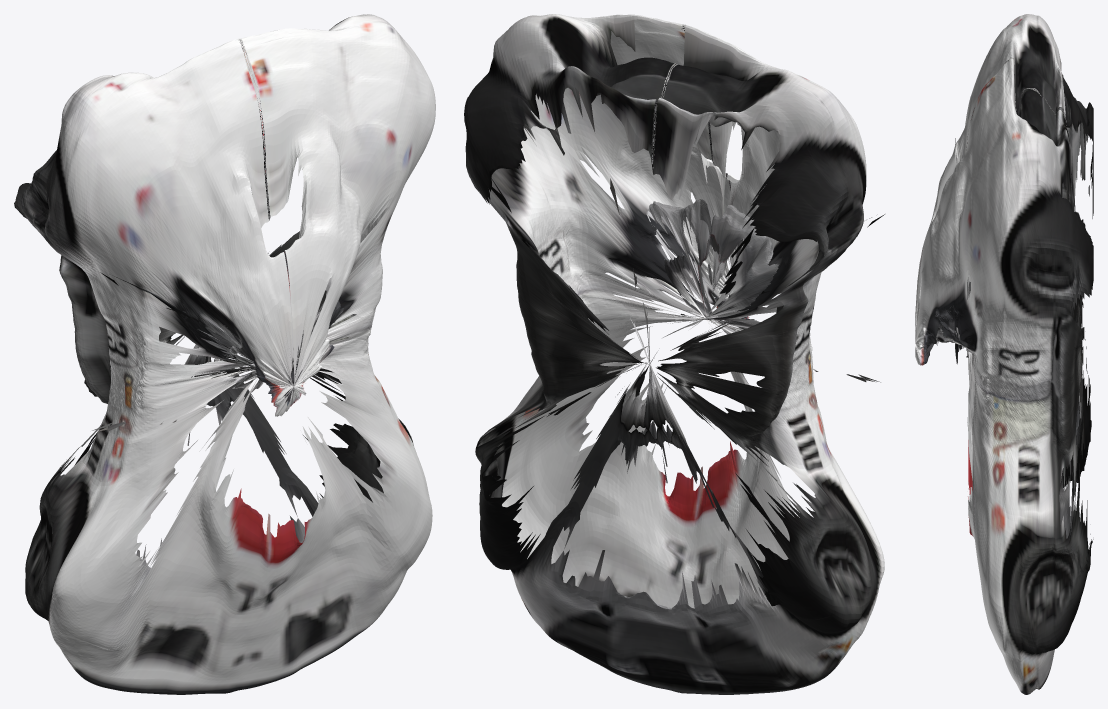
3 views of the same model, side by side, from view 1: azimuth 30°, elevation 25°; view 2: azimuth 150°, elevation 25°; view 3: azimuth 270°, elevation 25° (orthographic). The views are drawn at different scales.
Parts seen in each view (by area): view 1: geometry_0; view 2: geometry_0; view 3: geometry_0.
Part boxes in pixels (x1,y1,x2,y2): geometry_0: (14,14,435,694); geometry_0: (464,14,884,694); geometry_0: (915,14,1093,694).
Bounding box in the file's own units: 1.17 × 1.88 × 0.502.
Materials: 1 (1 with a texture image).
